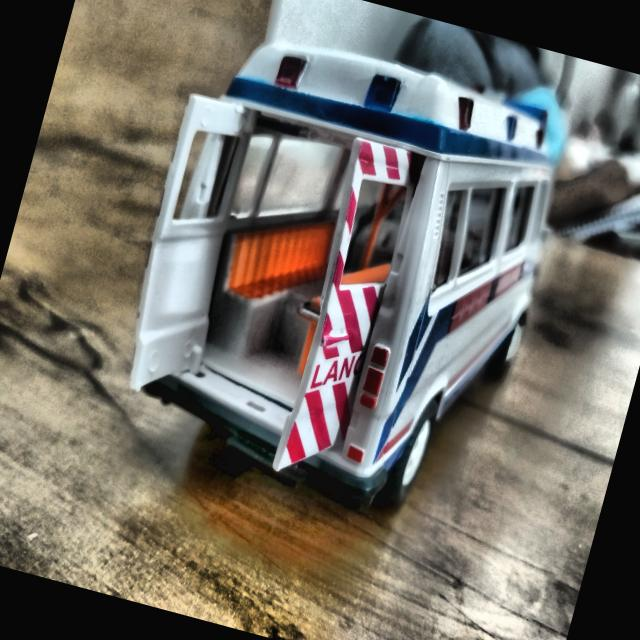Ambulance: (92, 11, 588, 544)
